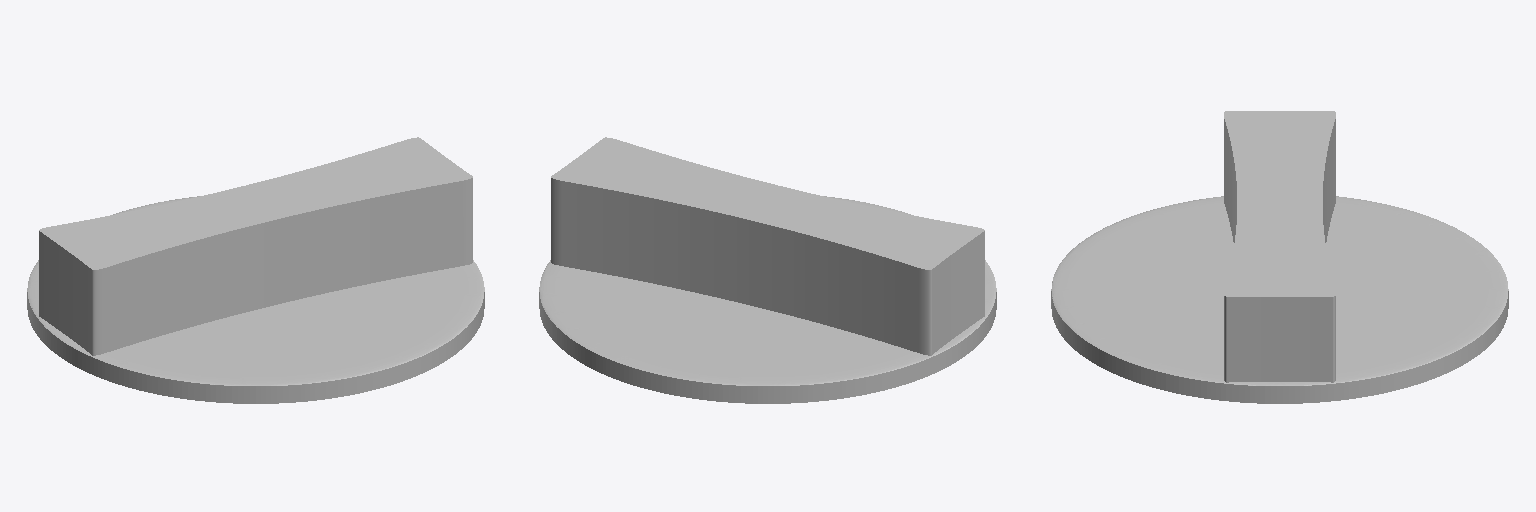
The model's file is rotate_part.obj.
3 views of the same model, side by side, from view 1: azimuth 30°, elevation 25°; view 2: azimuth 150°, elevation 25°; view 3: azimuth 270°, elevation 25° (orthographic).
Parts seen in each view (by area): view 1: Cube_Cube.002, Cylinder; view 2: Cube_Cube.002, Cylinder; view 3: Cylinder, Cube_Cube.002.
Part boxes in pixels (bbox=[...]): Cube_Cube.002: bbox=[39, 137, 472, 355]; Cylinder: bbox=[27, 196, 484, 403]; Cube_Cube.002: bbox=[551, 137, 984, 355]; Cylinder: bbox=[539, 196, 996, 403]; Cylinder: bbox=[1051, 196, 1508, 403]; Cube_Cube.002: bbox=[1224, 111, 1335, 382].
Bounding box in the file's own units: 1.08 × 0.2722 × 1.08.